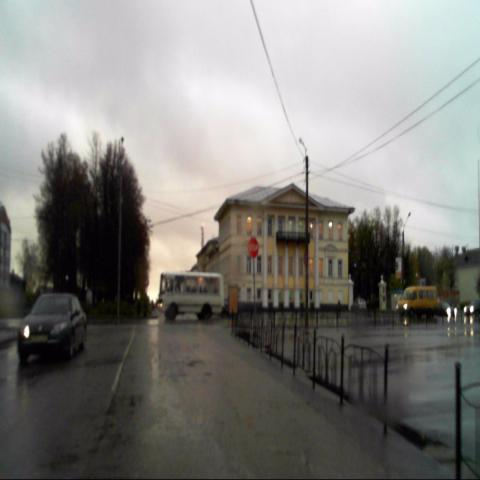2_5: (248, 236, 258, 257)
